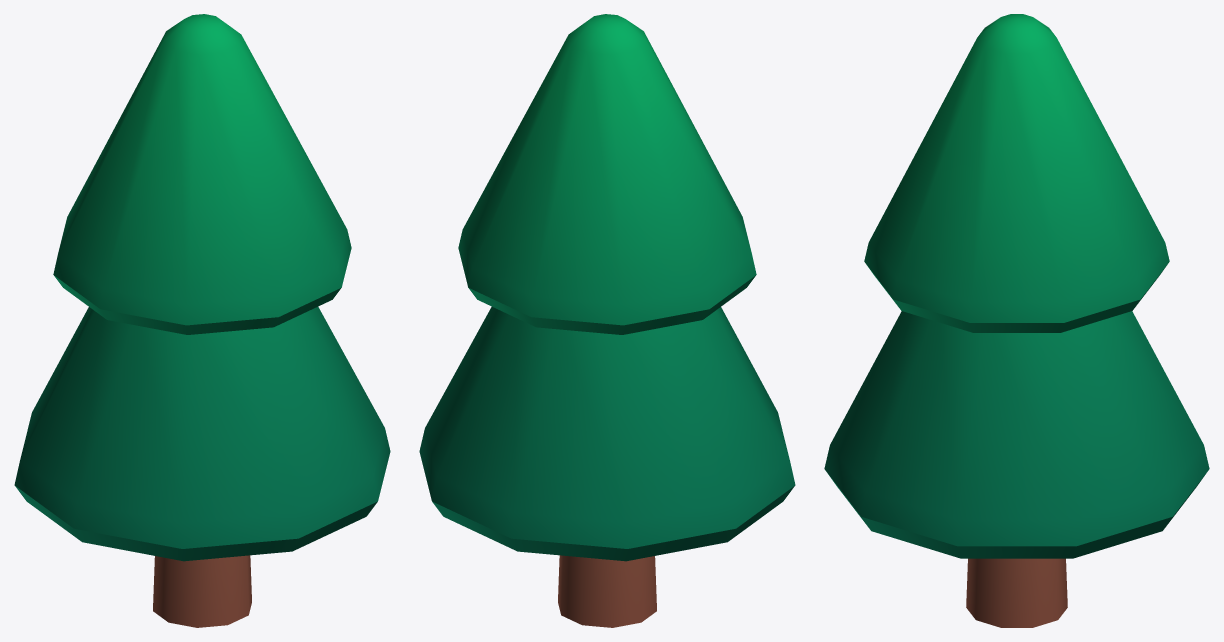
The model's file is tree-pine.glb.
3 renders of one model, left to right at view 1: azimuth 30°, elevation 25°; view 2: azimuth 150°, elevation 25°; view 3: azimuth 270°, elevation 25°, orthographic.
Parts seen in each view (by area): view 1: tree_single_B; view 2: tree_single_B; view 3: tree_single_B.
Boxes of the visible parts, <box> form: tree_single_B: <box>14,14,390,627</box>; tree_single_B: <box>419,14,795,627</box>; tree_single_B: <box>824,14,1209,627</box>.
Bounding box in the file's own units: 0.6849 × 1.21 × 0.7201.
Materials: 1 (1 with a texture image).
